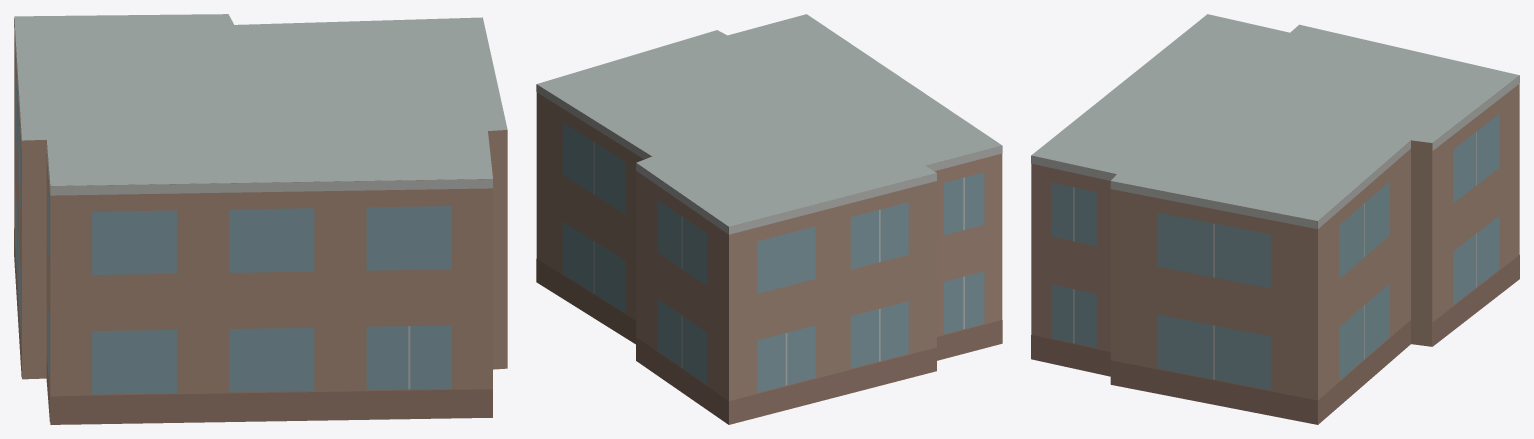
Rendered from survey-upis-32936743.glb.
The picture shows the model from 3 angles, left to right: view 1: azimuth 30°, elevation 25°; view 2: azimuth 150°, elevation 25°; view 3: azimuth 270°, elevation 25°; orthographic projection. The views are drawn at different scales.
Parts seen in each view (by area): view 1: survey-upis-32936743.tmp; view 2: survey-upis-32936743.tmp; view 3: survey-upis-32936743.tmp.
Part boxes in pixels (box(x1,y1,x2,y2)): survey-upis-32936743.tmp: box(14, 14, 507, 424); survey-upis-32936743.tmp: box(536, 14, 1002, 424); survey-upis-32936743.tmp: box(1031, 14, 1519, 424).
Size of the model in its own units: 13.3 by 6.1 by 13.26.
